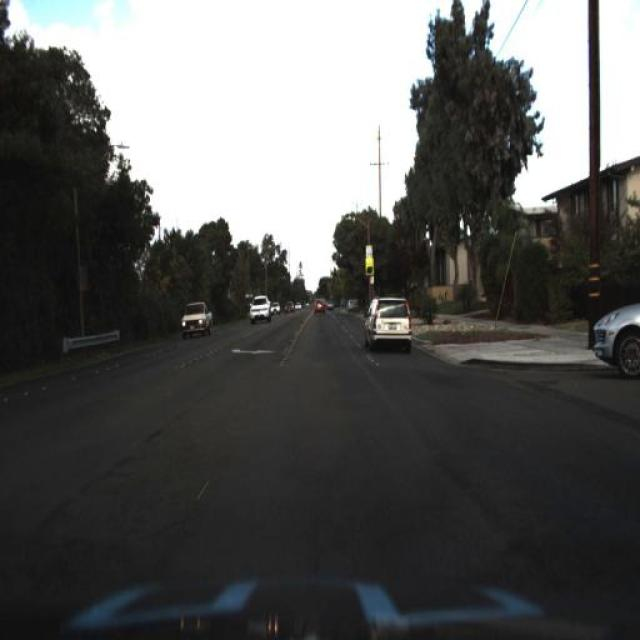car: (589, 294, 640, 384), (365, 287, 415, 359), (174, 298, 218, 342), (178, 301, 216, 338), (246, 293, 272, 326), (249, 294, 276, 324), (312, 294, 329, 316), (270, 296, 282, 320)
